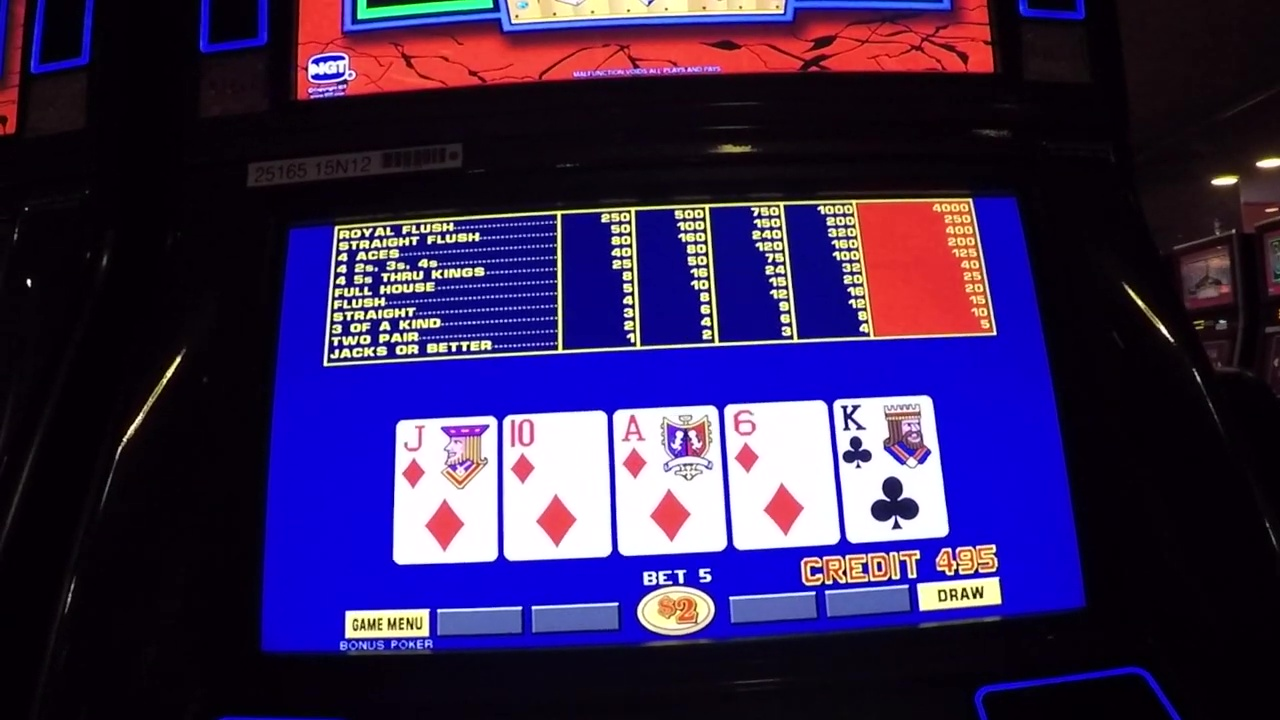CK: (842, 400, 932, 471)
D6: (729, 405, 825, 480)
DA: (617, 410, 717, 484)
DJ: (402, 418, 495, 492)
DT: (506, 417, 604, 488)
